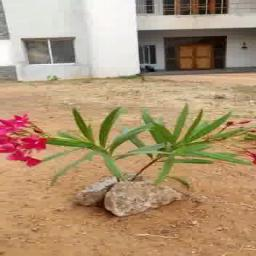OLEANDER: (0, 101, 255, 173)
